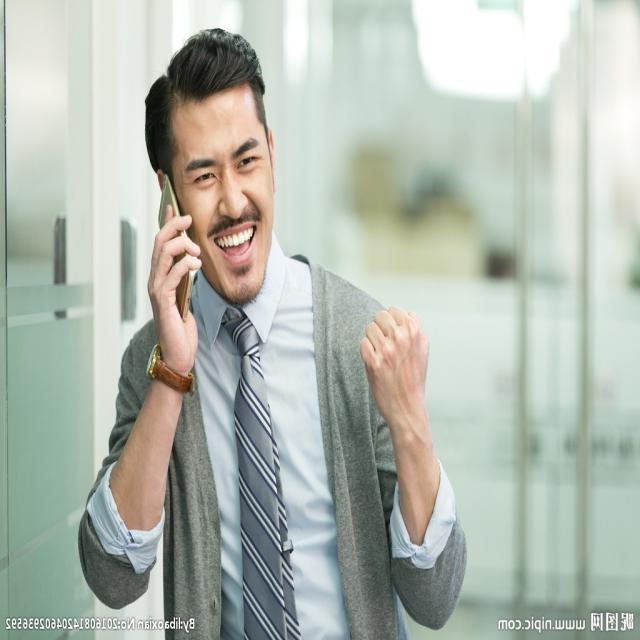phone: (154, 174, 195, 318)
